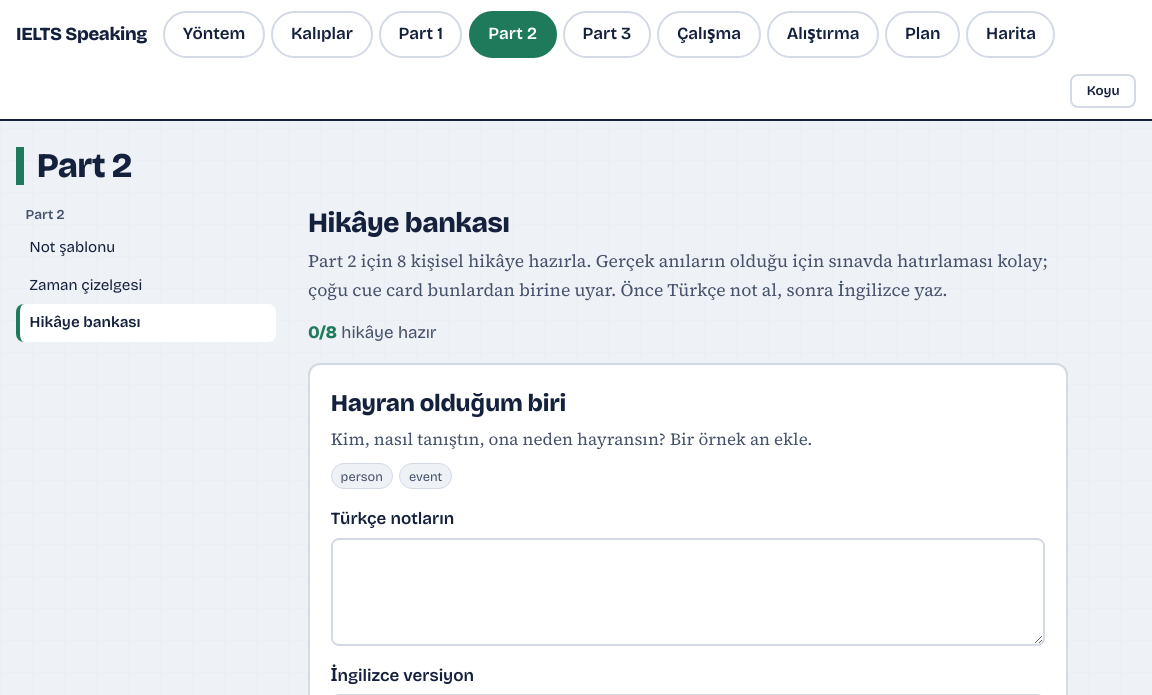
Scenario: part 2 page › story is saved to localStorage and counted
Type "Babamla Ankara'ya gittik" into the text box labelled "Türkçe notların". click: (688, 592)
box: [331,538,1045,646]
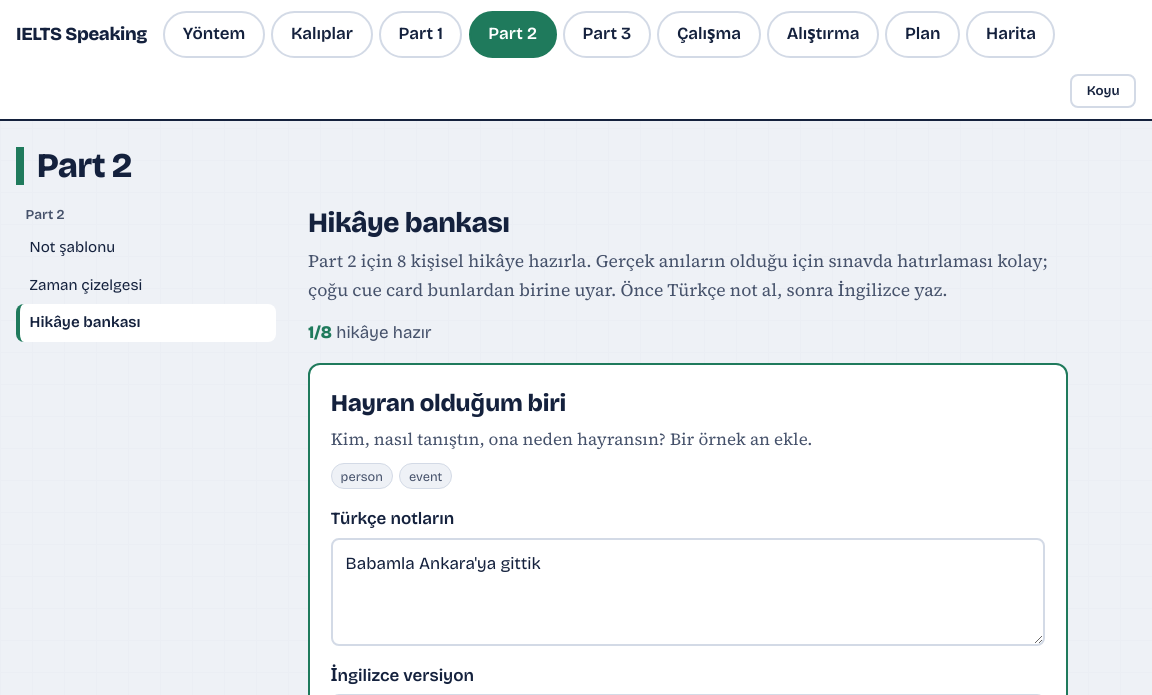
Expected: the element named "Doldurulan hikâye" shows "1/8", [308,322,432,343]
